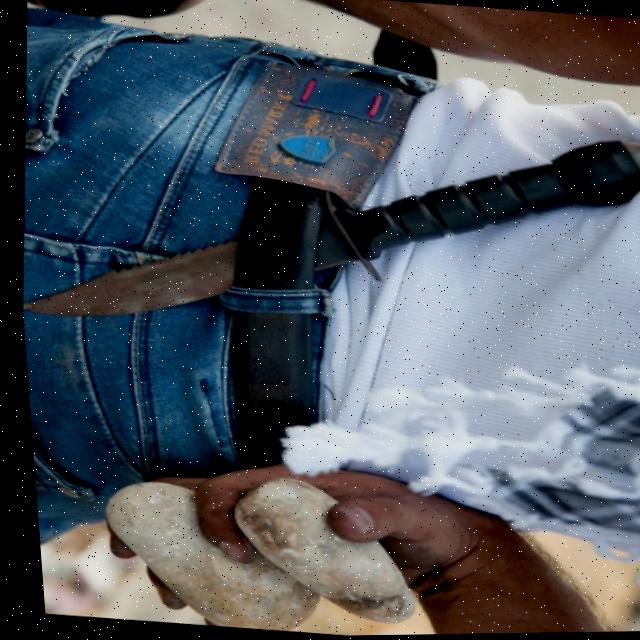knife: (6, 89, 640, 368)
